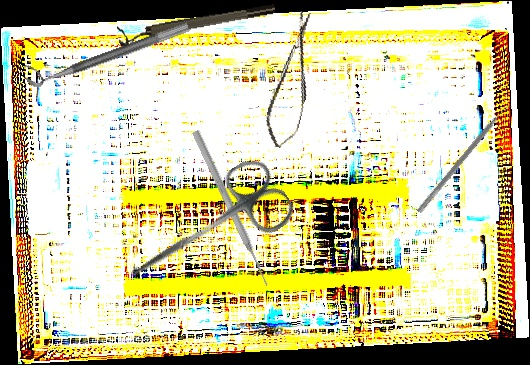Fixation Ring: (21, 8, 191, 91), (116, 1, 278, 48)
Iris Scissors: (112, 151, 300, 311)
Micro Scissor: (259, 8, 327, 152)
Pusher: (190, 129, 272, 288)
Spatula Surgical: (416, 100, 515, 218)
